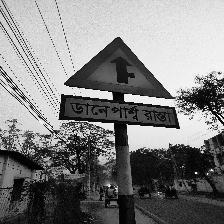Side-road-right: (61, 38, 179, 129)
